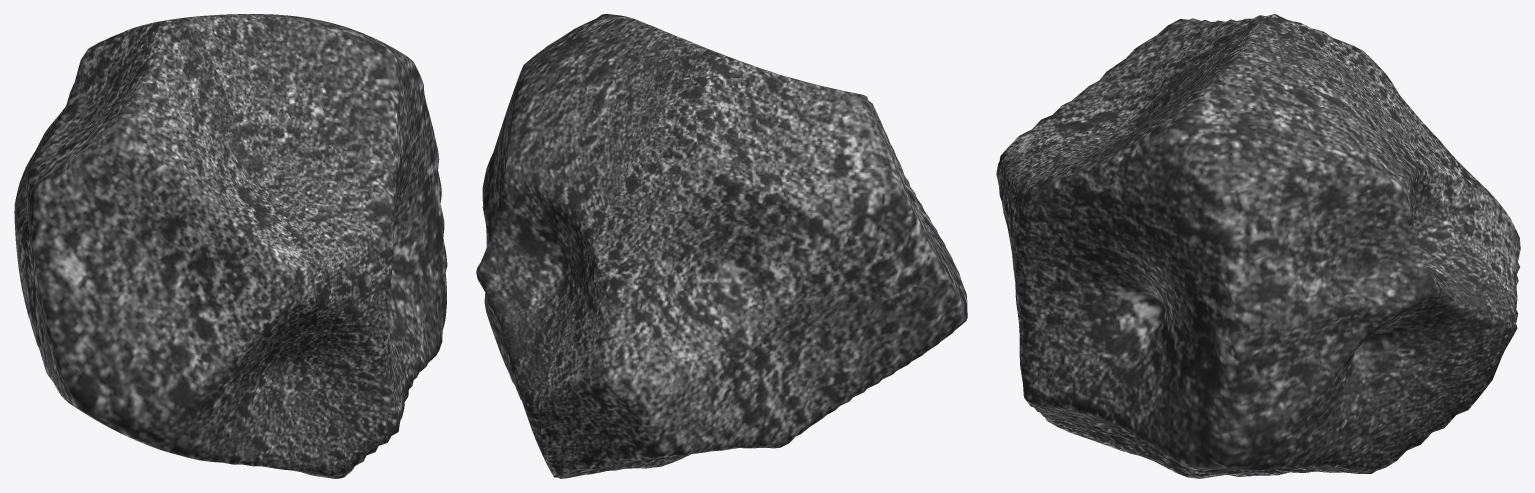
Rendered from batu.fbx.
3 views of the same model, side by side, from view 1: azimuth 30°, elevation 25°; view 2: azimuth 150°, elevation 25°; view 3: azimuth 270°, elevation 25° (orthographic). The views are drawn at different scales.
Visible parts, largest first — view 1: Cube.001; view 2: Cube.001; view 3: Cube.001.
Boxes of the visible parts, x1,y1,x2,y2 form: Cube.001: (14,14,447,478); Cube.001: (476,14,967,478); Cube.001: (996,14,1520,478).
Bounding box in the file's own units: 115 × 111 × 124.
1 material, 1 textured.
